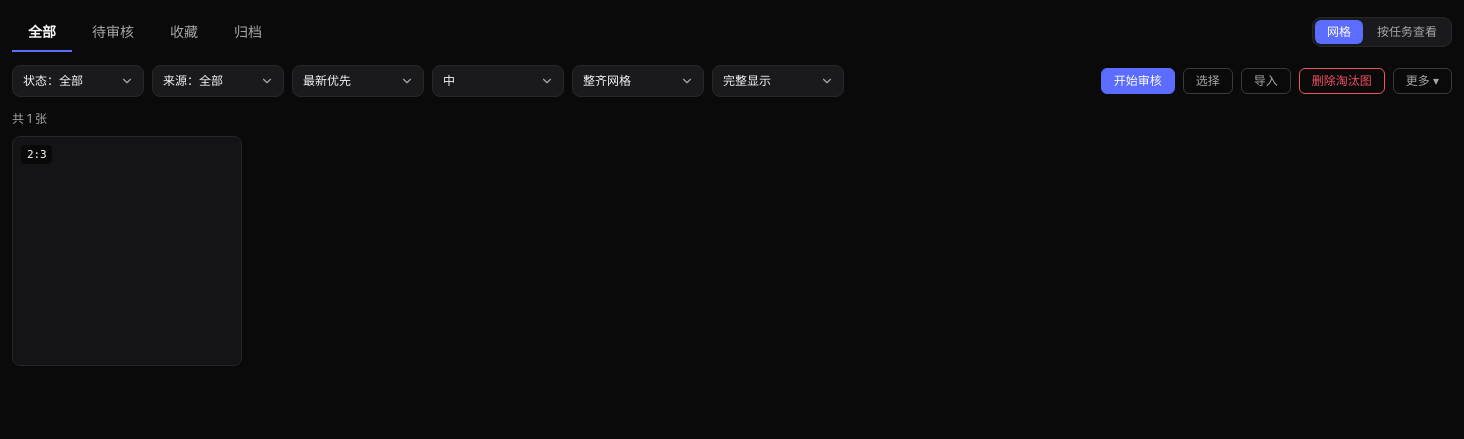
Test: GalleryPage 图库 › 进入选择模式后显示高清放大操作
Check: the text "共 1 张" is shown, box [12,111,47,126]
Click the button "选择" at (1208, 81), box [1183,68,1233,94]
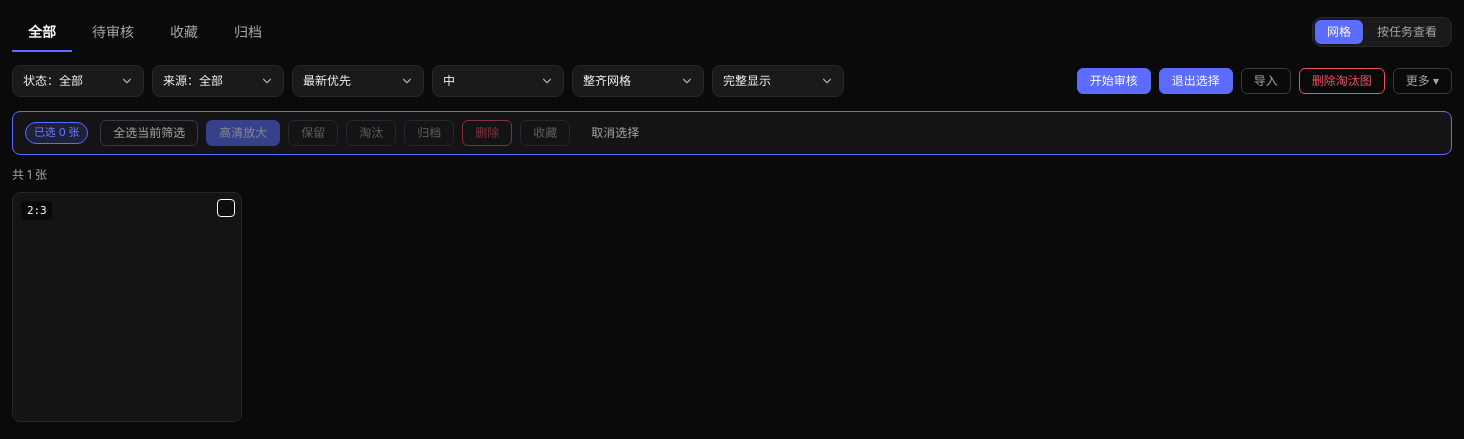
Check: the text "已选 0 张" is shown, box [25,122,88,144]
Check: the button "高清放大" is disabled, box [206,120,280,146]
